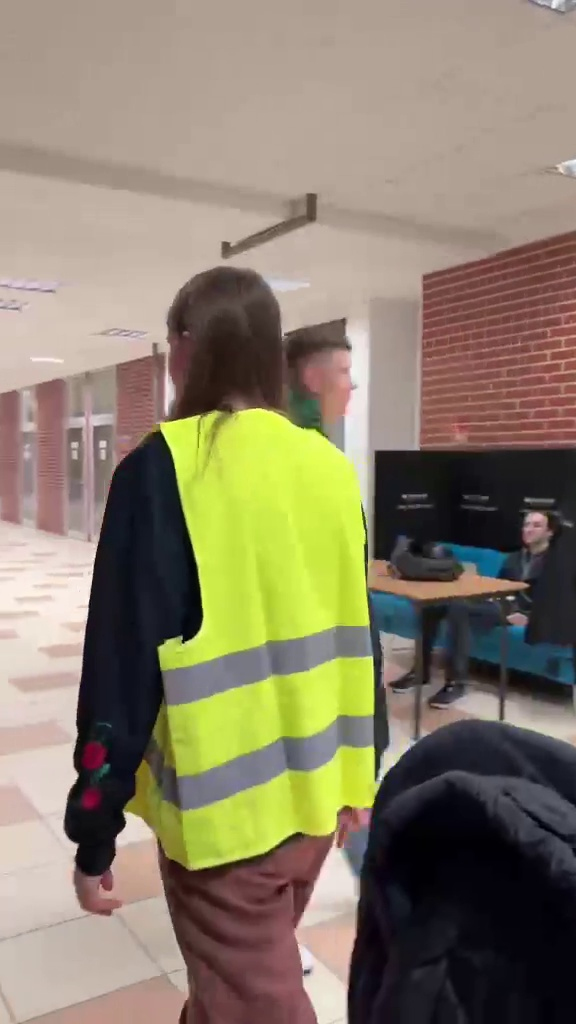no vest: (412, 504, 556, 735)
vest: (78, 259, 392, 1019)
